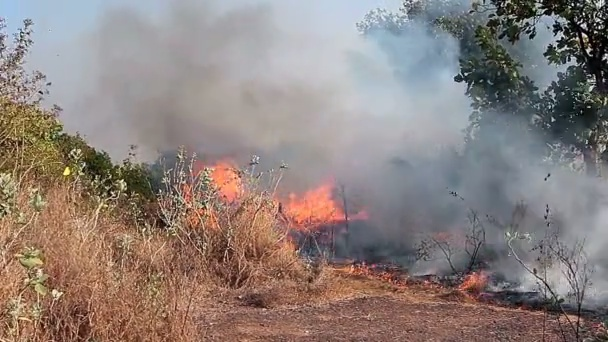fire: (294, 190, 336, 221), (215, 168, 239, 194), (63, 168, 70, 176)
